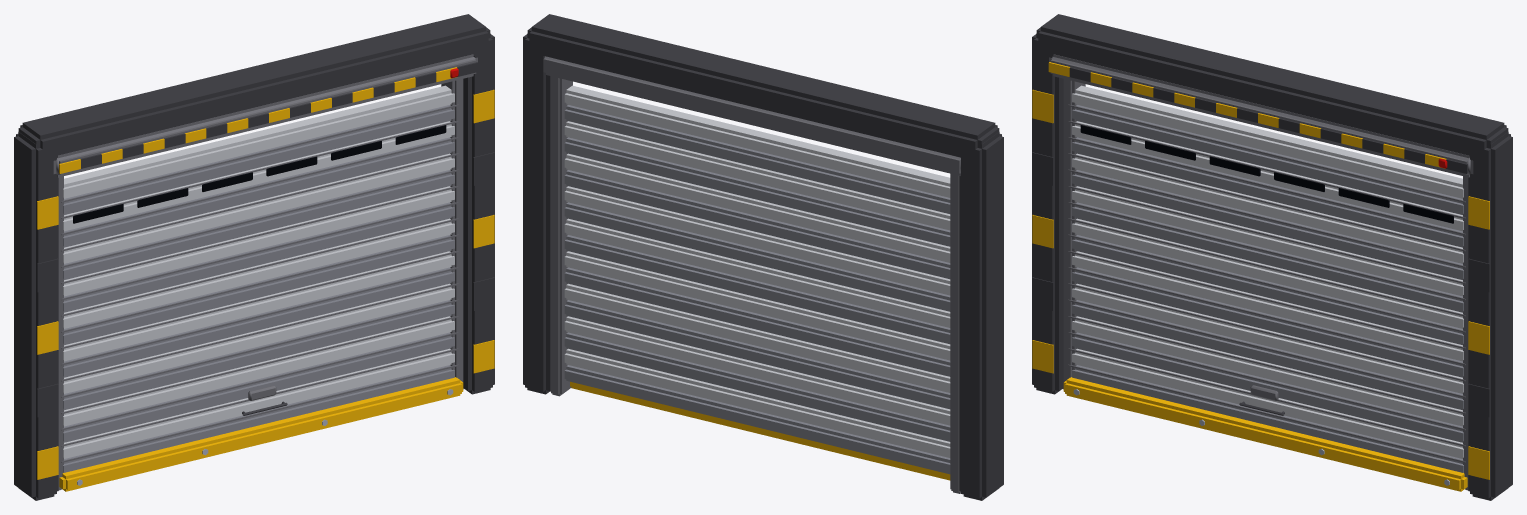
Rendered from roller_door.fbx.
3 views of the same model, side by side, from view 1: azimuth 30°, elevation 25°; view 2: azimuth 150°, elevation 25°; view 3: azimuth 330°, elevation 25° (orthographic).
Parts seen in each view (by area): view 1: roller_door; view 2: roller_door; view 3: roller_door.
Part boxes in pixels (x1,y1,x2,y2): roller_door: [14, 14, 494, 500]; roller_door: [523, 14, 1003, 500]; roller_door: [1032, 14, 1512, 500].
Bounding box in the file's own units: 15.5 × 11.65 × 1.6.
